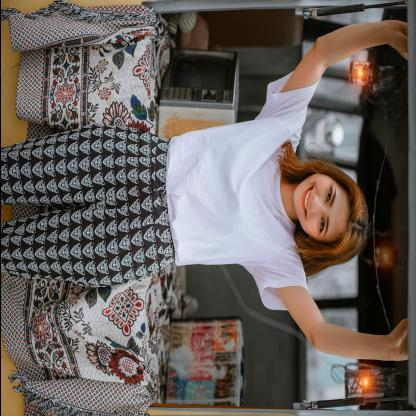Eye: (324, 186, 331, 203), (318, 217, 324, 234)
Mouth: (301, 184, 314, 218)
Nose: (310, 194, 324, 214)
